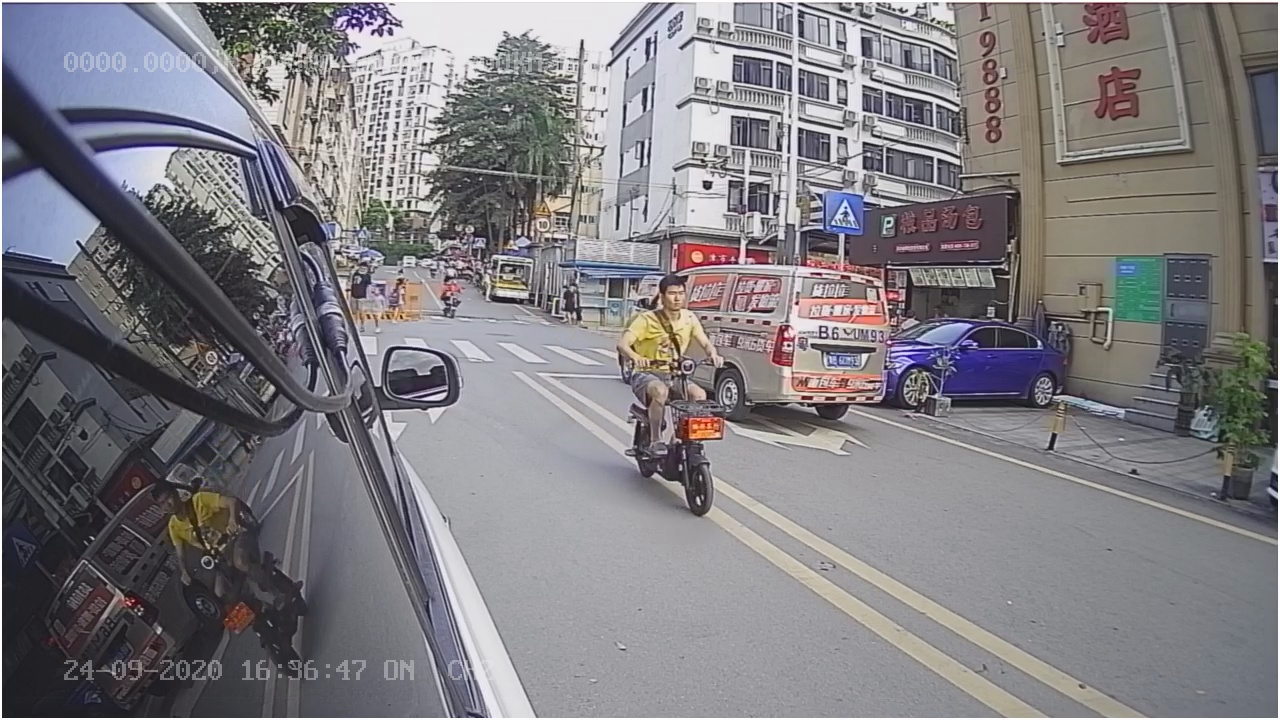person: (596, 273, 734, 516)
